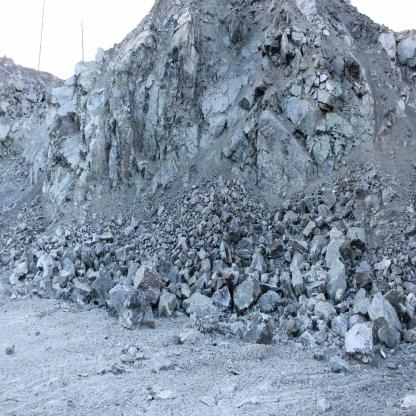stone: (256, 110, 313, 199), (108, 284, 155, 330), (368, 292, 402, 349), (134, 262, 162, 304), (345, 324, 375, 363), (233, 277, 261, 318), (60, 129, 85, 171), (243, 313, 274, 346), (91, 263, 115, 303), (383, 289, 415, 318), (326, 258, 347, 302), (306, 134, 331, 168), (325, 239, 350, 268), (285, 315, 315, 338), (197, 304, 220, 334), (182, 293, 213, 314), (313, 301, 337, 327), (279, 271, 298, 302), (211, 286, 232, 312), (228, 216, 248, 243), (257, 290, 281, 312), (72, 281, 93, 305), (158, 292, 176, 318), (344, 227, 365, 249), (266, 239, 287, 259), (235, 237, 254, 259), (291, 266, 303, 297), (250, 253, 266, 276), (306, 281, 326, 299), (114, 244, 131, 265), (331, 316, 347, 338), (219, 240, 232, 267), (321, 188, 337, 209), (212, 260, 231, 277), (329, 356, 349, 372), (353, 298, 371, 315), (355, 270, 371, 289), (159, 258, 171, 283), (284, 301, 302, 317), (299, 331, 317, 347), (58, 270, 74, 288), (273, 212, 285, 236), (290, 253, 304, 273), (127, 263, 139, 285), (55, 287, 72, 302), (176, 236, 189, 255), (63, 258, 75, 277), (402, 327, 416, 343), (15, 262, 29, 278), (317, 397, 331, 413), (168, 283, 182, 299), (329, 228, 345, 242), (333, 300, 350, 313), (155, 390, 177, 400), (297, 302, 312, 316), (400, 395, 416, 408), (292, 240, 308, 253), (169, 265, 179, 285), (81, 252, 94, 267), (20, 251, 32, 267), (375, 259, 391, 271), (180, 283, 192, 299), (217, 277, 230, 290), (200, 258, 211, 273), (317, 320, 328, 334), (316, 270, 327, 284), (73, 243, 82, 259), (354, 288, 366, 300), (67, 251, 78, 264), (10, 250, 23, 261), (178, 269, 189, 282), (99, 232, 114, 241), (57, 234, 66, 248), (311, 316, 320, 330), (94, 243, 103, 257), (9, 273, 19, 285), (43, 267, 53, 279), (332, 338, 343, 348), (123, 226, 135, 235), (88, 271, 99, 280), (294, 343, 305, 352), (315, 349, 324, 360), (38, 238, 46, 250), (199, 248, 207, 260), (52, 282, 60, 294), (103, 252, 111, 264), (188, 274, 196, 286), (36, 250, 46, 259), (94, 257, 100, 272), (212, 223, 221, 232), (50, 235, 60, 243), (19, 223, 27, 233), (313, 228, 324, 235), (285, 299, 294, 307), (387, 362, 396, 370), (261, 273, 268, 283), (40, 280, 46, 291), (26, 273, 35, 280), (43, 237, 50, 244), (332, 345, 339, 352), (85, 240, 92, 247), (71, 278, 78, 285), (51, 252, 57, 260), (380, 350, 386, 358), (10, 293, 16, 299), (45, 244, 50, 251), (139, 249, 144, 256), (7, 238, 12, 245), (49, 244, 54, 250)
